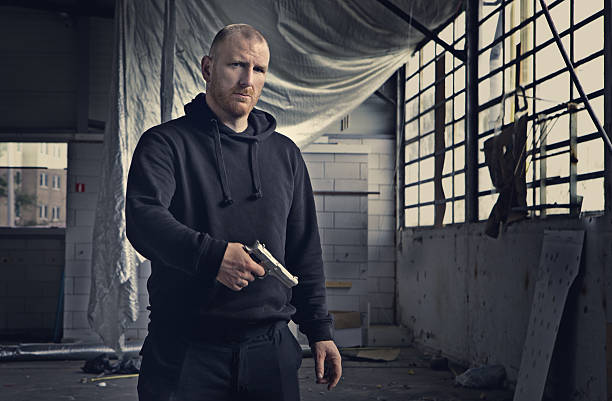gun: (243, 239, 298, 290)
